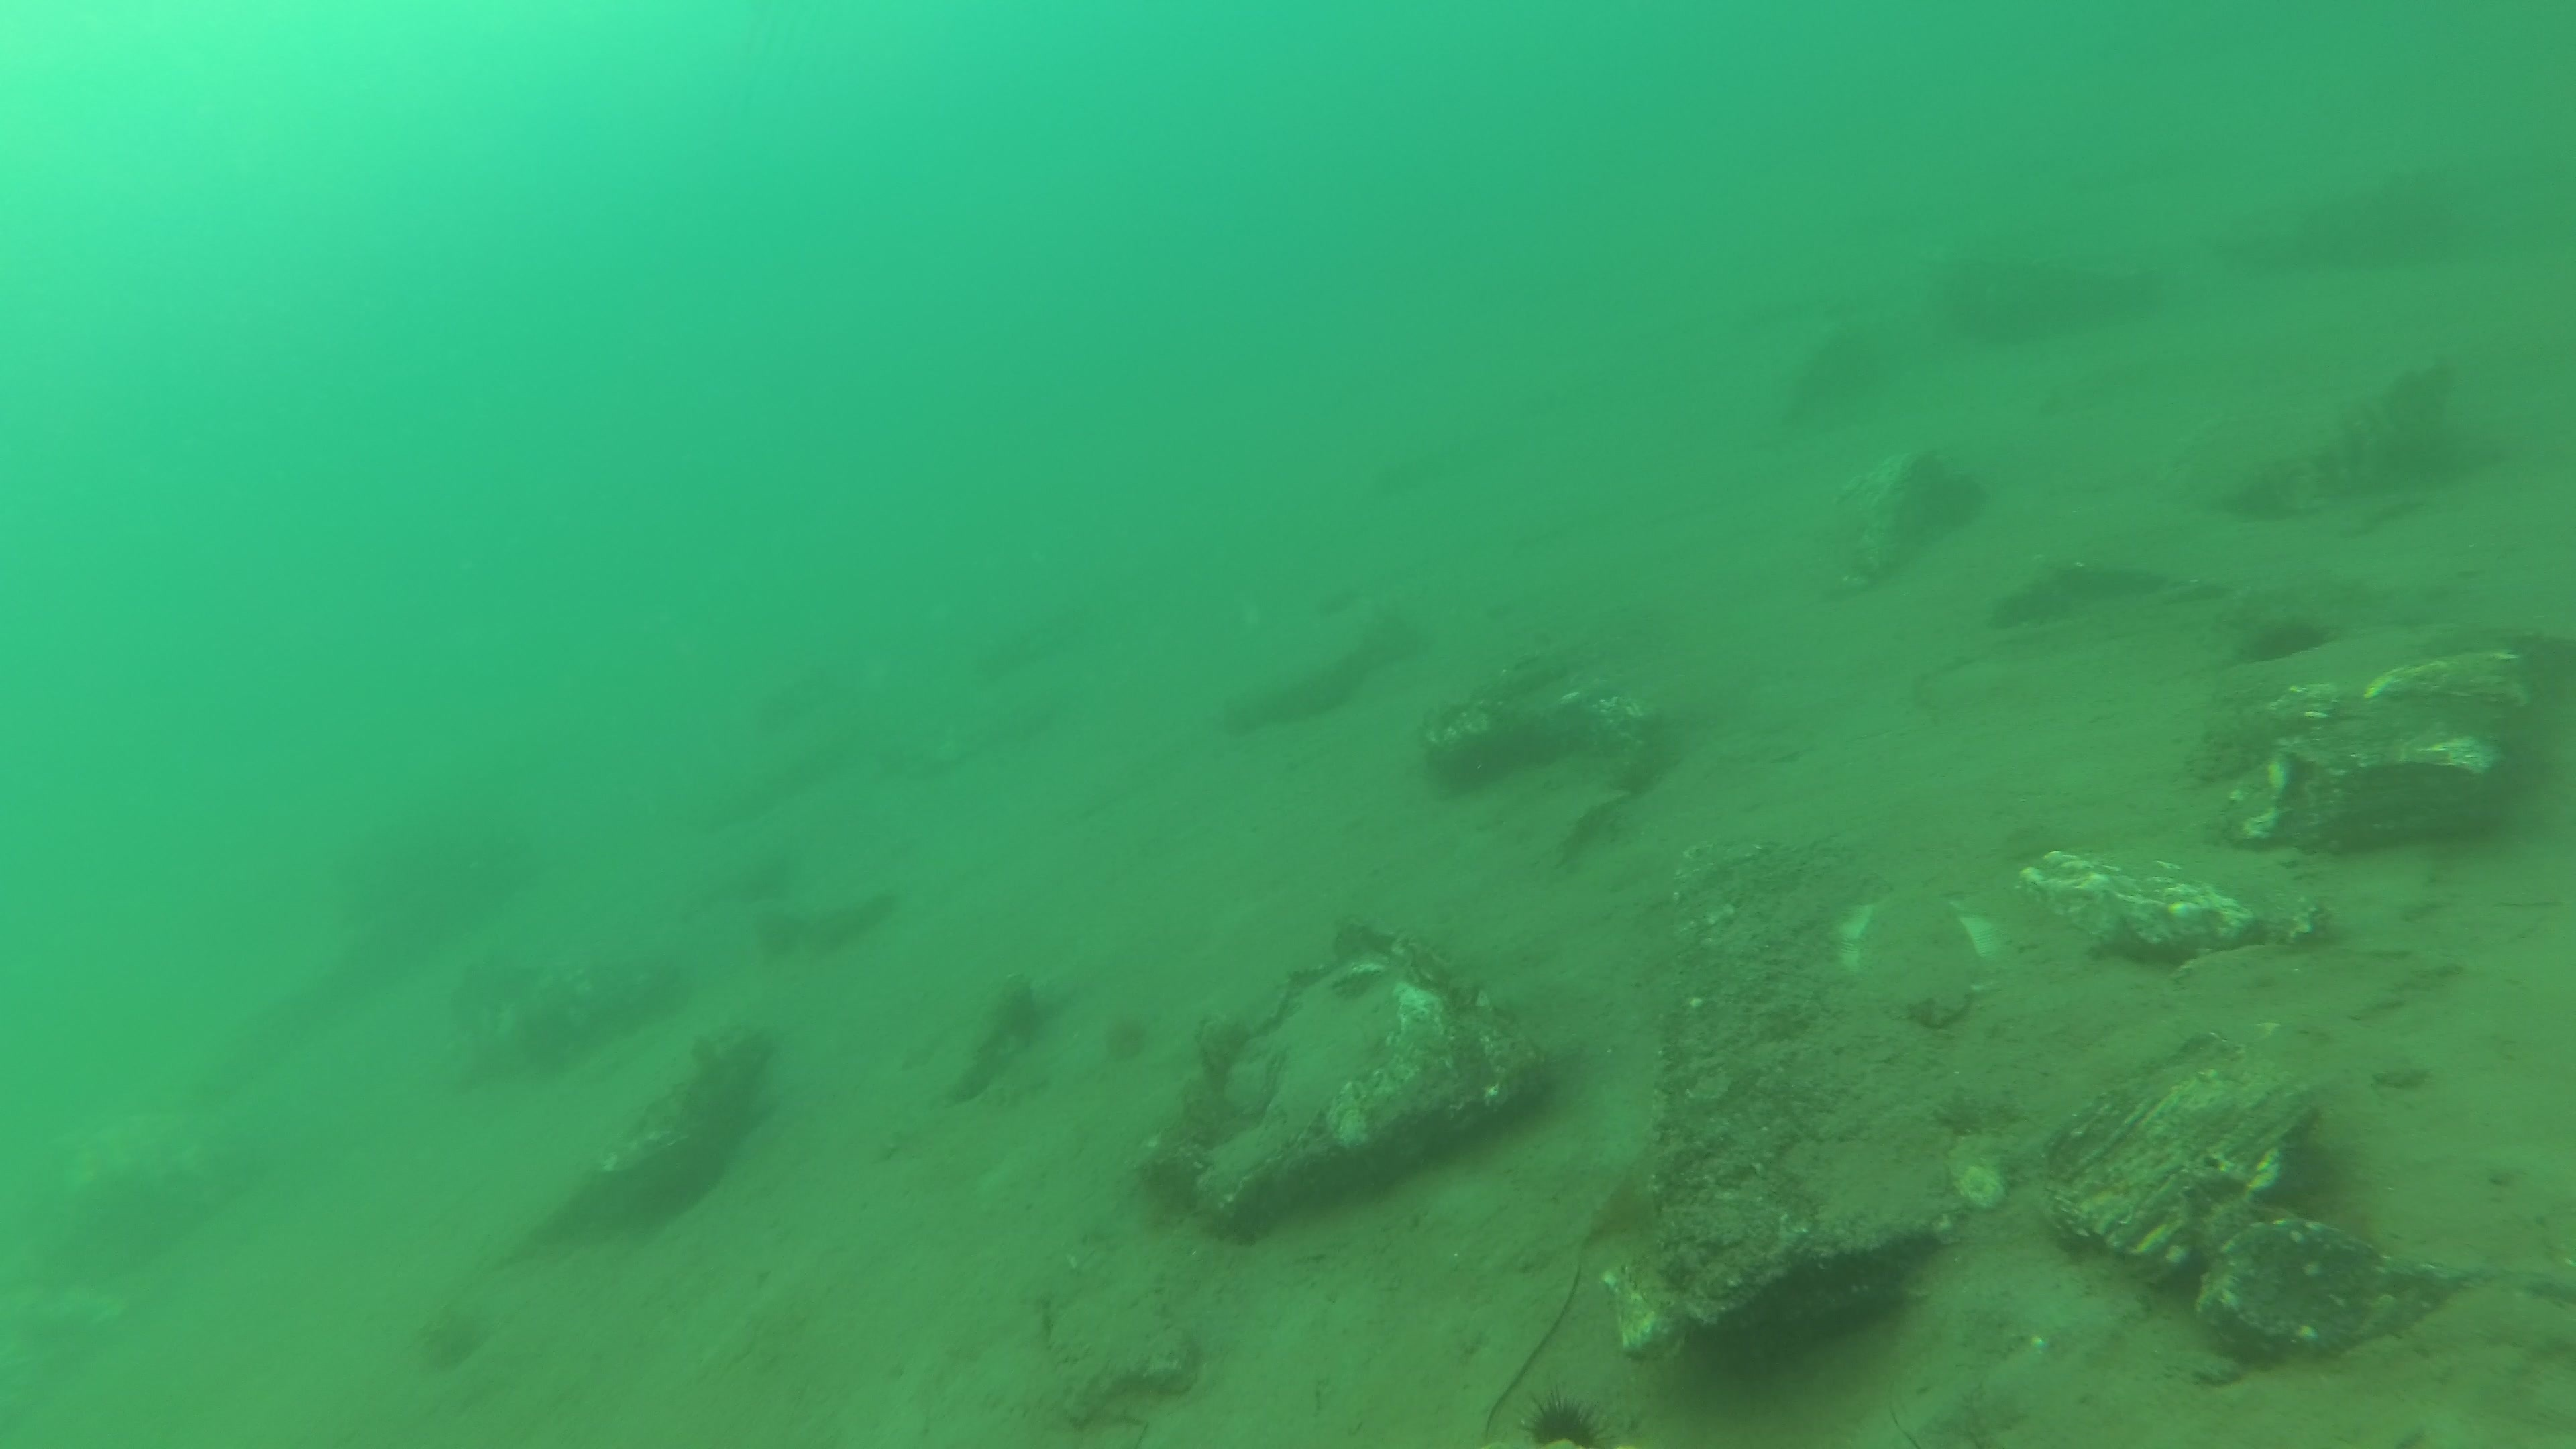echinus: (1522, 1382, 1624, 1449)
